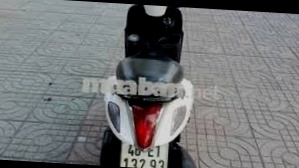Bien-so: (121, 139, 169, 168)
